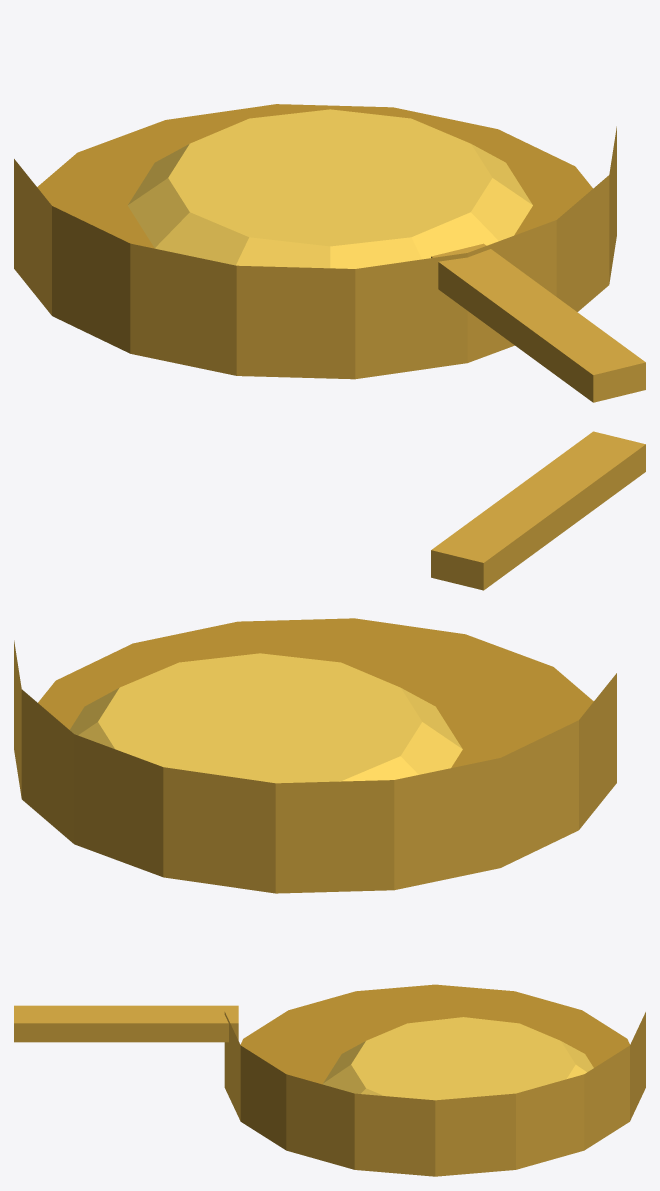
The model's file is gold_sieve.glb.
3 renders of one model, top to bottom at view 1: azimuth 30°, elevation 25°; view 2: azimuth 150°, elevation 25°; view 3: azimuth 270°, elevation 25°, orthographic. The views are drawn at different scales.
Visible parts, largest first — view 1: rim_gold_shiny, dust_gold_dust, mesh_gold_mesh, handle_gold_shiny; view 2: rim_gold_shiny, dust_gold_dust, mesh_gold_mesh, handle_gold_shiny; view 3: rim_gold_shiny, mesh_gold_mesh, dust_gold_dust, handle_gold_shiny.
Boxes of the visible parts, <box> form: rim_gold_shiny: <box>14,126,616,379</box>; dust_gold_dust: <box>127,109,532,268</box>; mesh_gold_mesh: <box>37,104,592,248</box>; handle_gold_shiny: <box>431,243,645,402</box>; rim_gold_shiny: <box>14,640,616,893</box>; dust_gold_dust: <box>70,653,462,783</box>; mesh_gold_mesh: <box>38,618,593,767</box>; handle_gold_shiny: <box>431,431,645,590</box>; rim_gold_shiny: <box>224,1012,645,1176</box>; mesh_gold_mesh: <box>240,984,629,1084</box>; dust_gold_dust: <box>323,1017,593,1100</box>; handle_gold_shiny: <box>14,1005,238,1042</box>.
Size of the model in its own units: 0.3 by 0.06 by 0.45.
